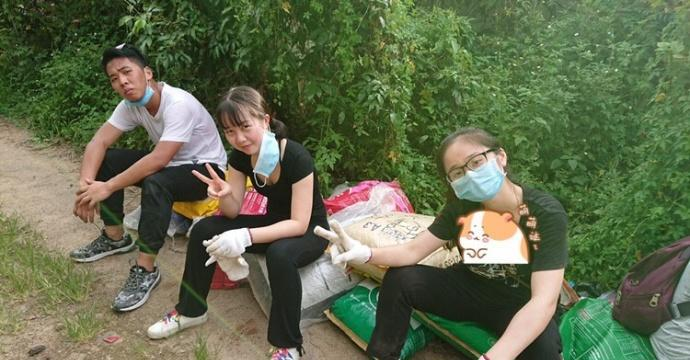NONE: (228, 122, 266, 159)
OK: (448, 152, 500, 204)
WRONG: (111, 66, 153, 106)
